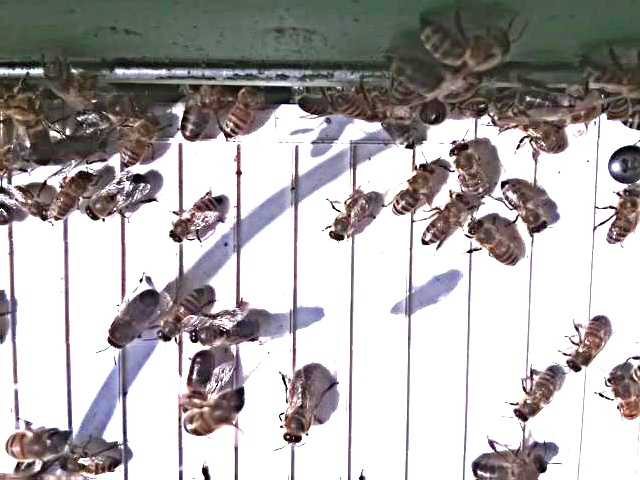Drone: (102, 288, 162, 354), (82, 171, 153, 225), (279, 364, 322, 447), (188, 315, 264, 349), (469, 450, 554, 480), (181, 348, 216, 413)
Worker: (165, 195, 226, 248), (158, 284, 206, 346), (324, 188, 373, 247), (466, 218, 520, 271), (513, 364, 559, 426), (563, 314, 608, 377), (500, 179, 548, 238), (386, 162, 434, 220), (418, 195, 464, 253), (45, 167, 88, 225), (603, 188, 640, 249), (450, 141, 488, 200), (221, 88, 258, 142), (53, 452, 124, 480), (605, 369, 640, 424)
